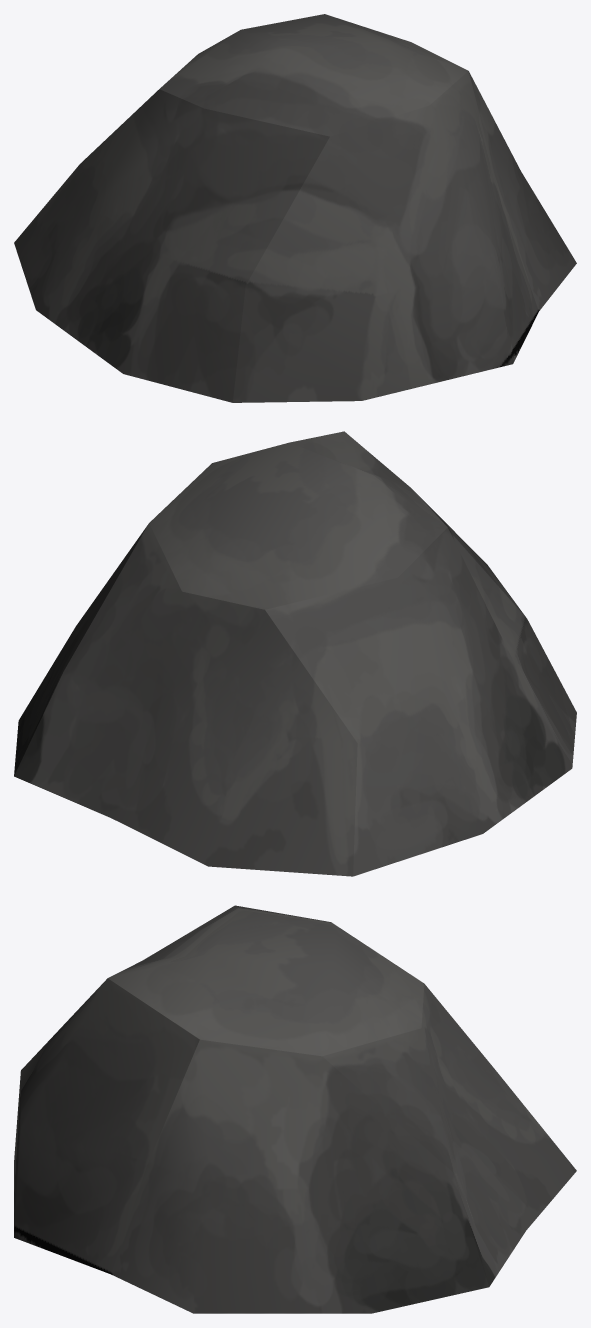
The model's file is Rock_A.fbx.
3 renders of one model, top to bottom at view 1: azimuth 30°, elevation 25°; view 2: azimuth 150°, elevation 25°; view 3: azimuth 270°, elevation 25°, orthographic. The views are drawn at different scales.
Parts seen in each view (by area): view 1: Rock_A; view 2: Rock_A; view 3: Rock_A.
Boxes of the visible parts, x1,y1,x2,y2 form: Rock_A: [14, 14, 576, 402]; Rock_A: [14, 431, 576, 876]; Rock_A: [14, 905, 576, 1313].
Bounding box in the file's own units: 135 × 74.98 × 142.
